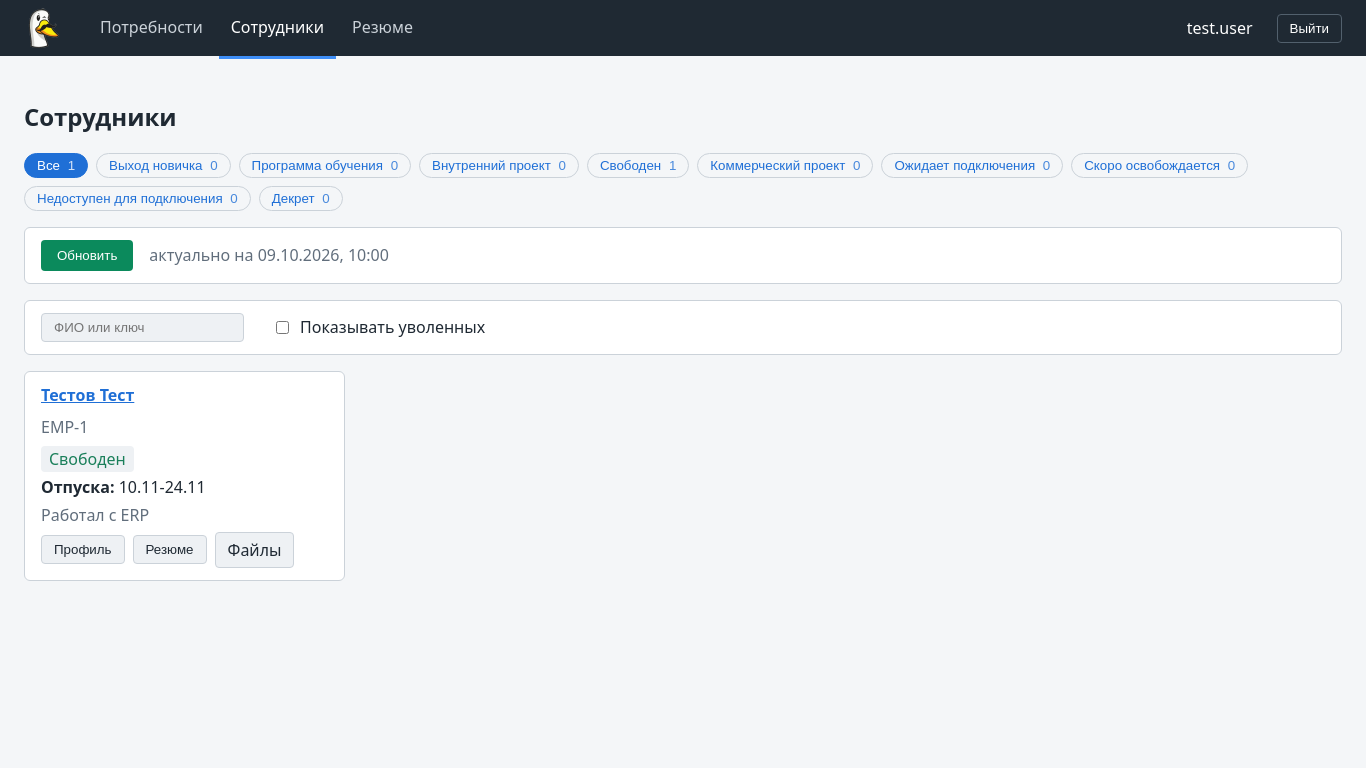
Test case: Сотрудники › окно CV: текст, поиск с переходом между совпадениями
Click the button "Резюме" at (170, 550), box [132,535,206,564]
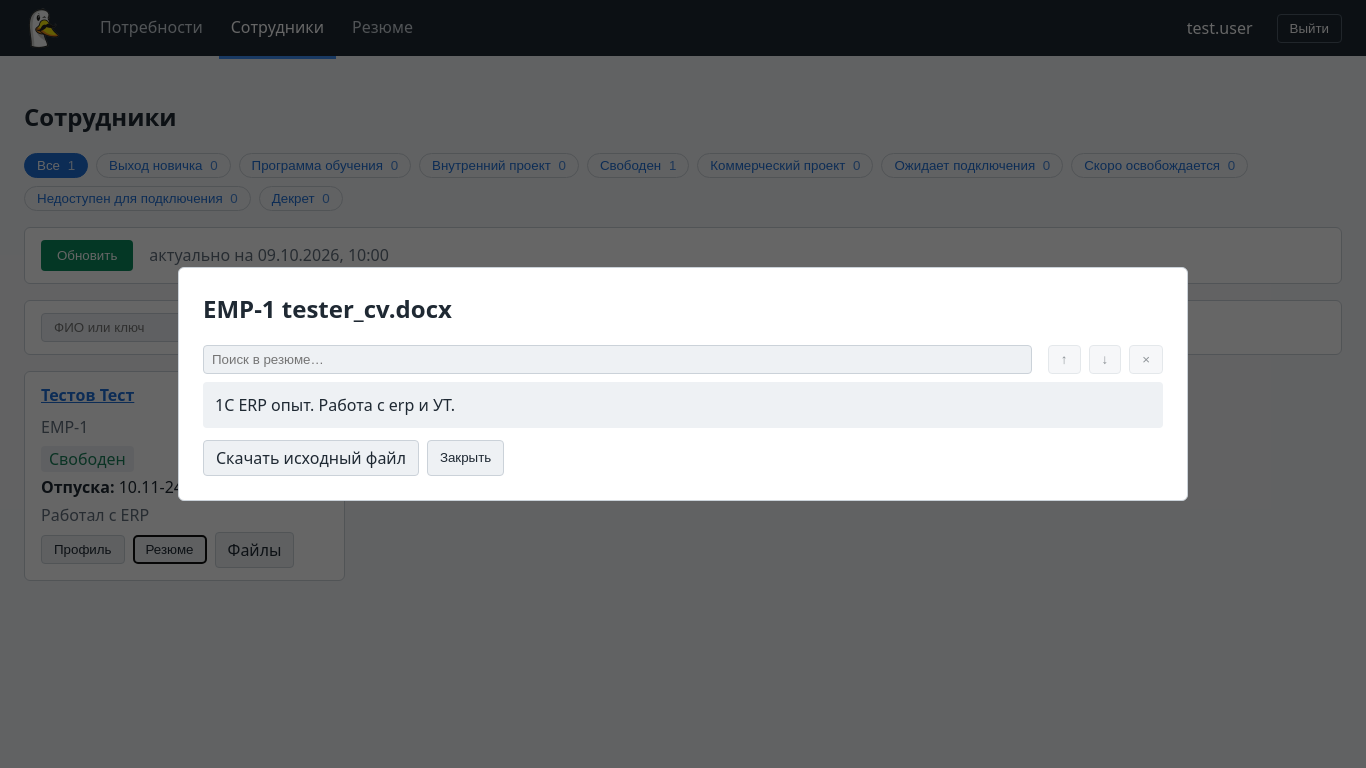
Now the text "1С ERP опыт. Работа с erp и УТ." is shown, box [215,394,455,416]
Type "erp" into the search field labelled "Поиск в резюме" at (617, 360), box [203,345,1032,374]
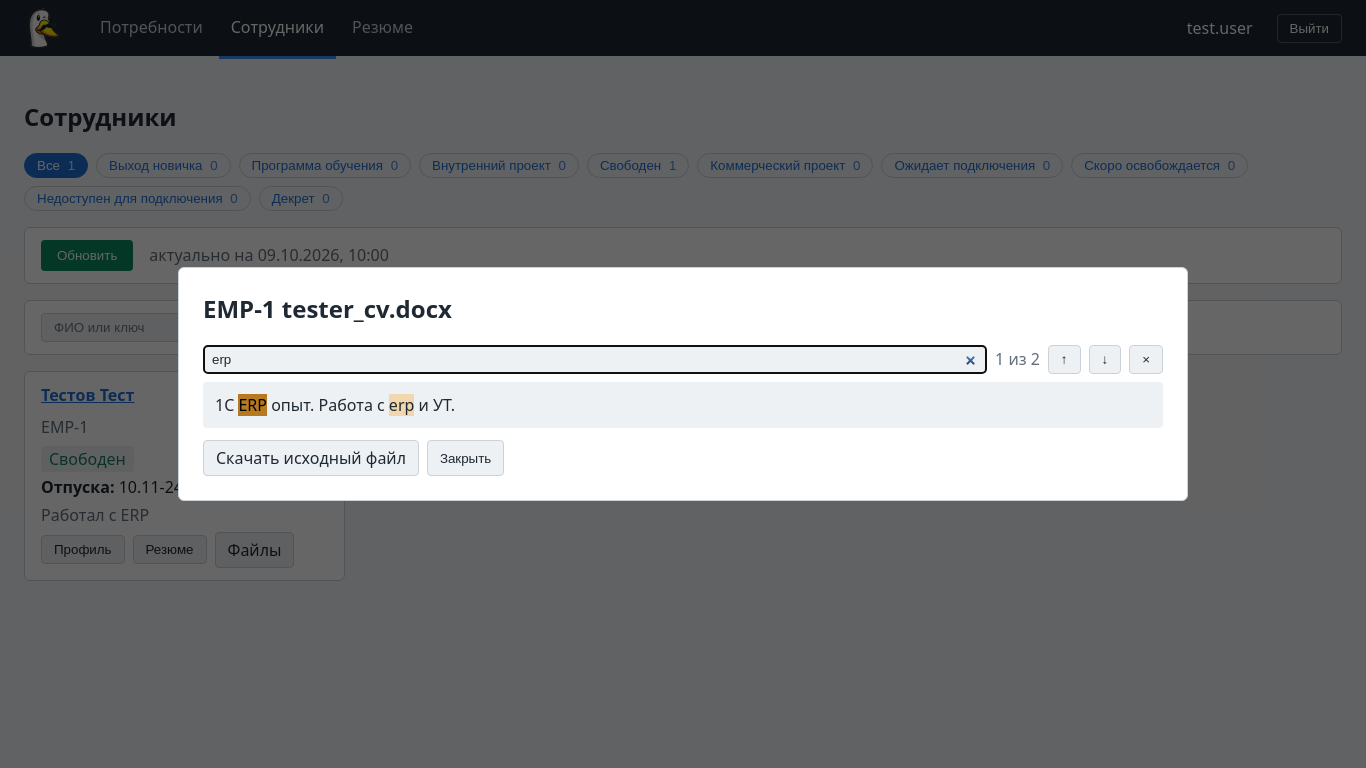
Now the text "1 из 2" is shown, box [995,348,1040,370]
Click the button named "Следующее совпадение" at (1105, 360), box [1088,345,1121,374]
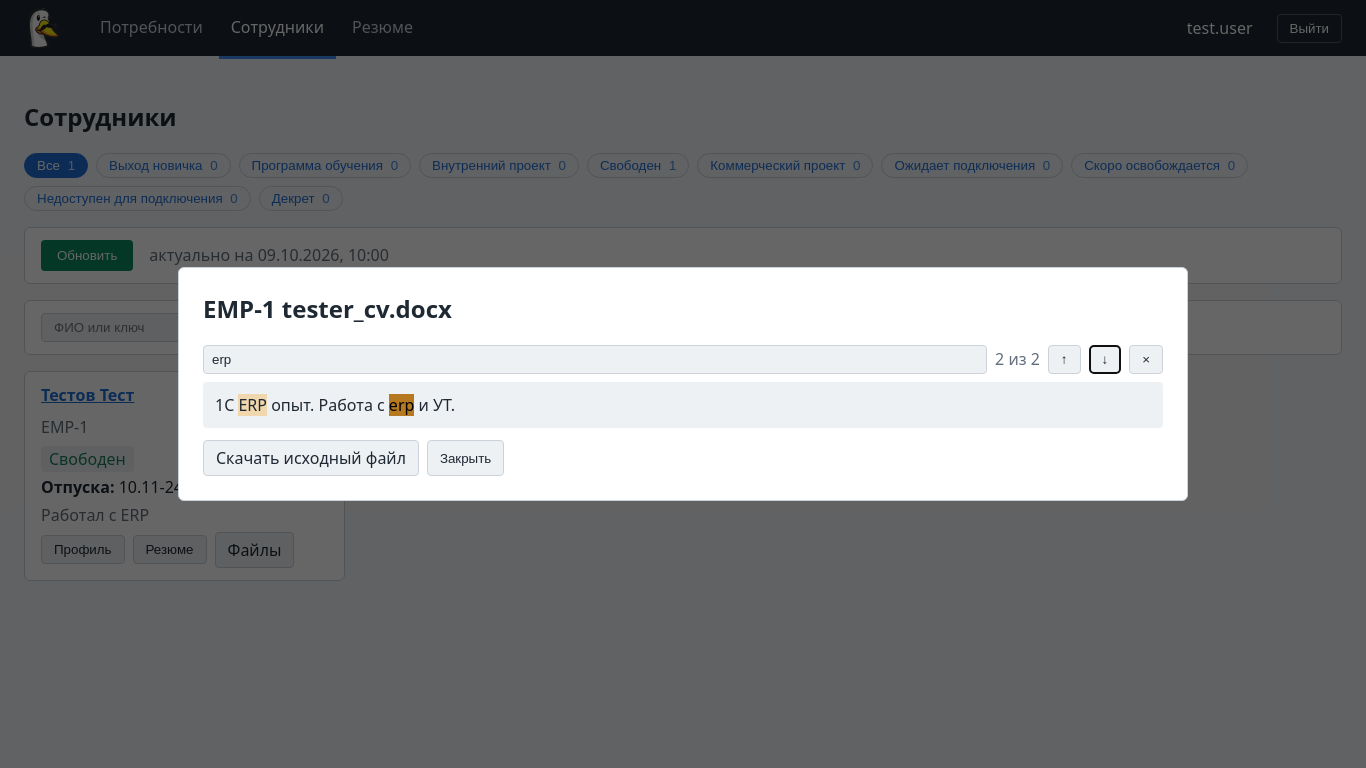
Now the text "2 из 2" is shown, box [995,348,1040,370]
Type "zzz" into the search field named "Поиск в резюме" at (595, 360), box [203,345,987,374]
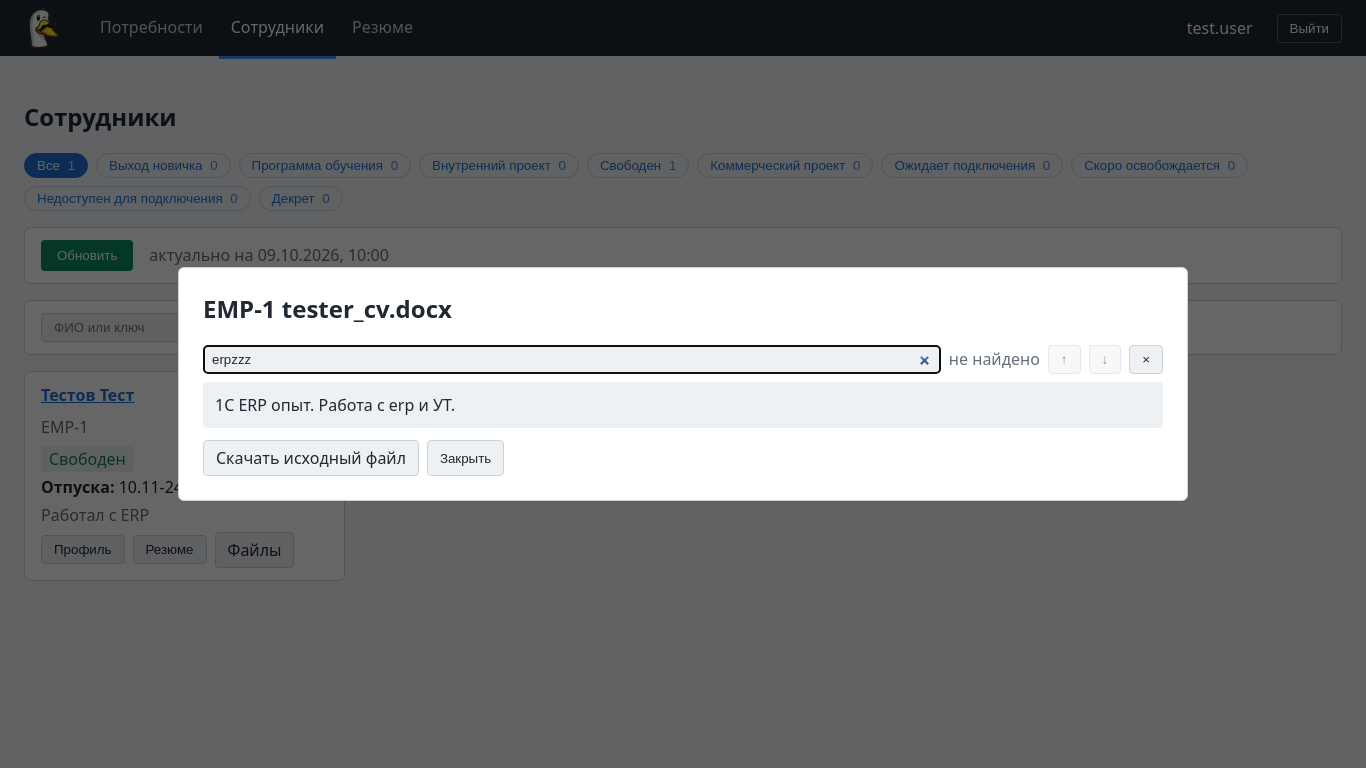
Now the text "не найдено" is shown, box [949,348,1040,370]
